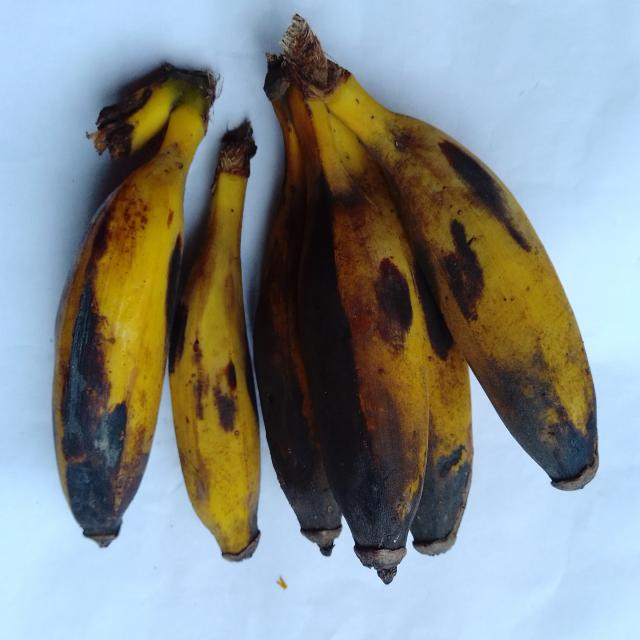banana: (282, 16, 597, 489), (53, 70, 214, 546), (289, 86, 428, 583), (254, 57, 341, 555), (169, 122, 260, 560), (395, 222, 472, 554)
